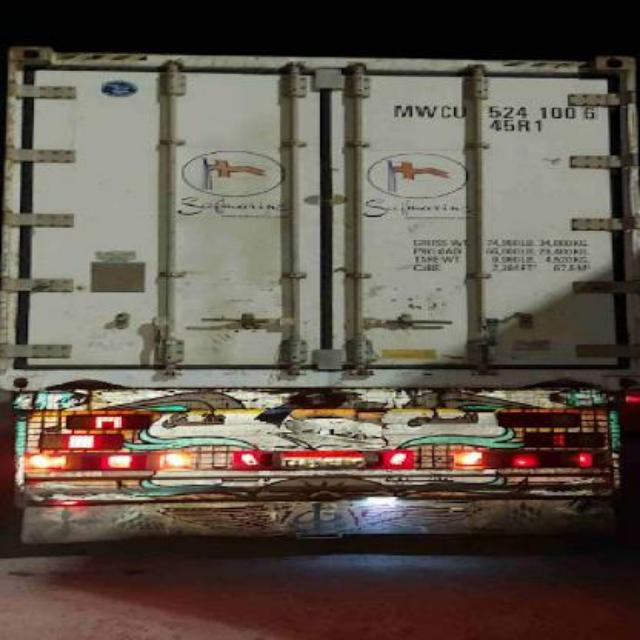0: (562, 97, 576, 121), (548, 104, 564, 120)
1: (532, 99, 550, 123)
2: (501, 96, 514, 122)
4: (514, 100, 532, 122)
5: (480, 102, 500, 122)
6: (582, 95, 600, 121)
C: (436, 99, 449, 123)
M: (392, 99, 412, 123)
U: (448, 100, 472, 124)
W: (414, 101, 438, 122)
